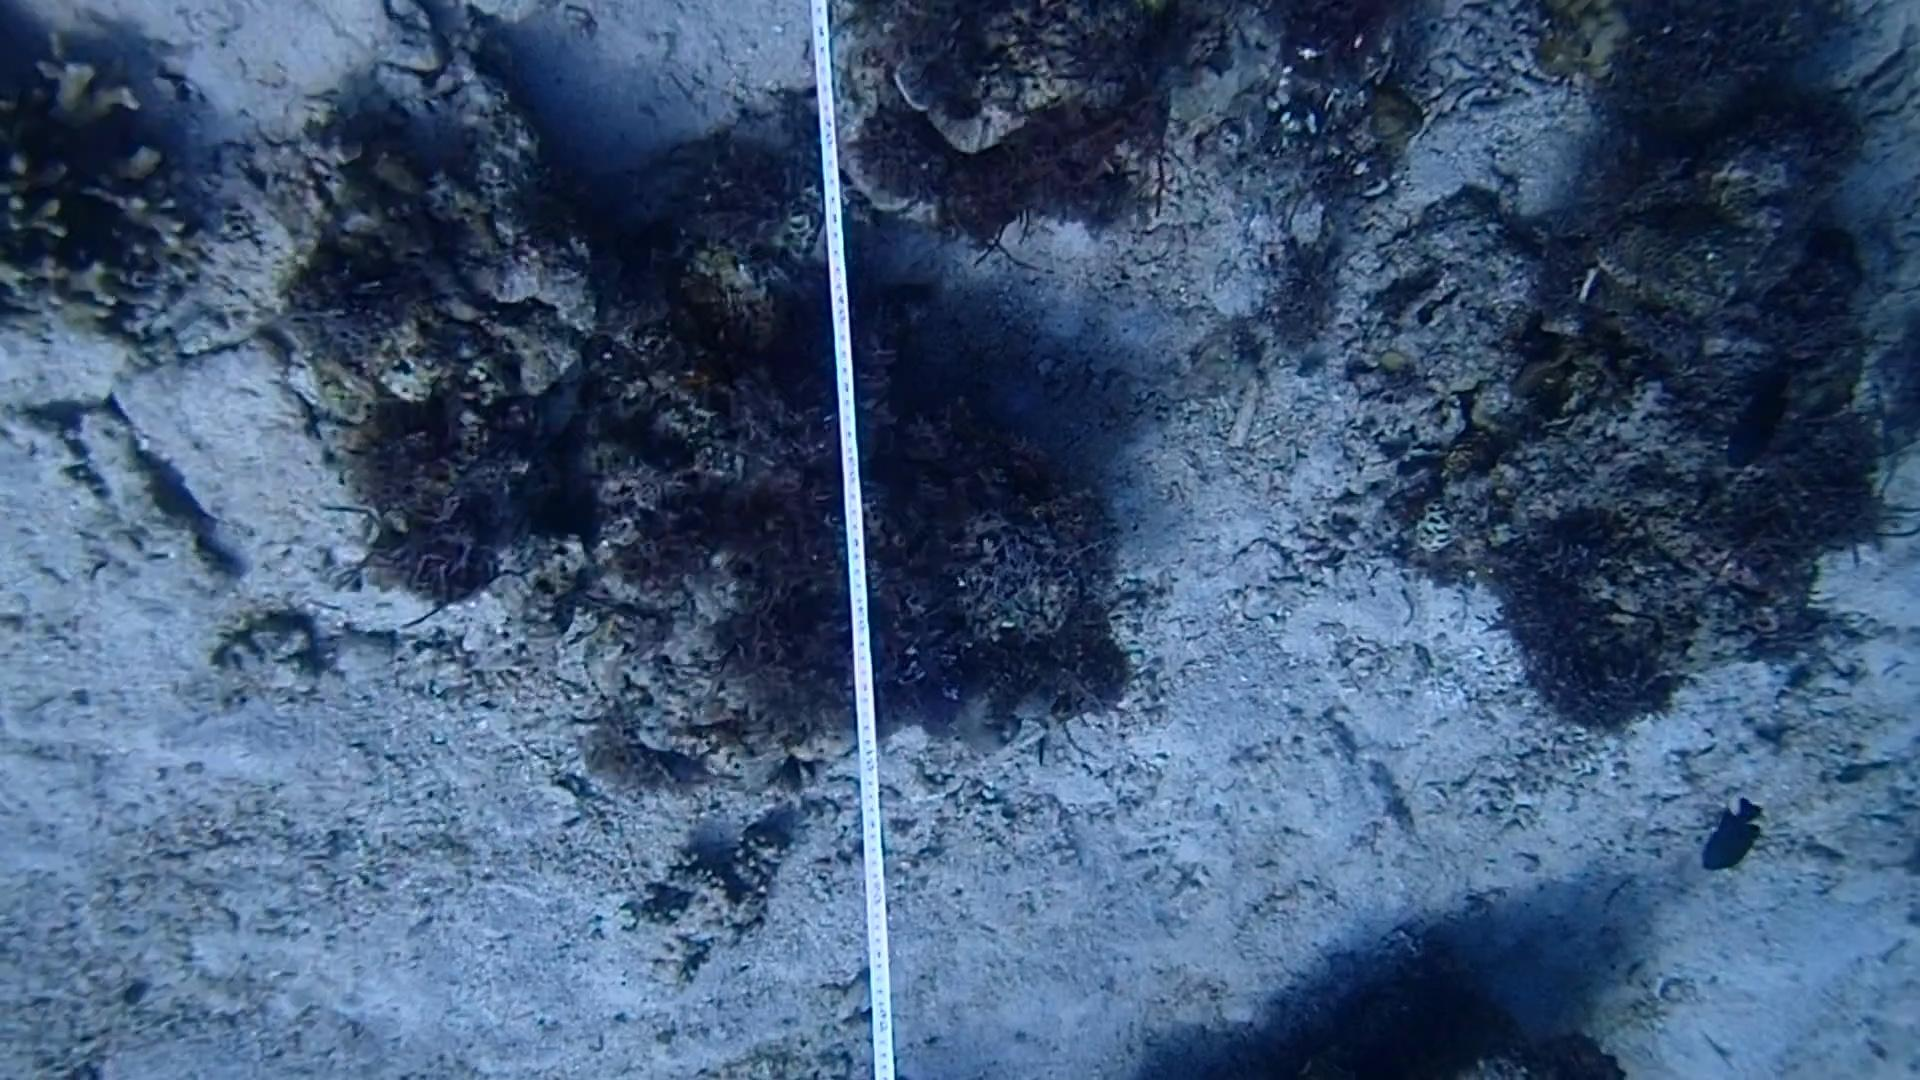Dark Fish: (1708, 367, 1803, 483), (1692, 789, 1767, 891)
